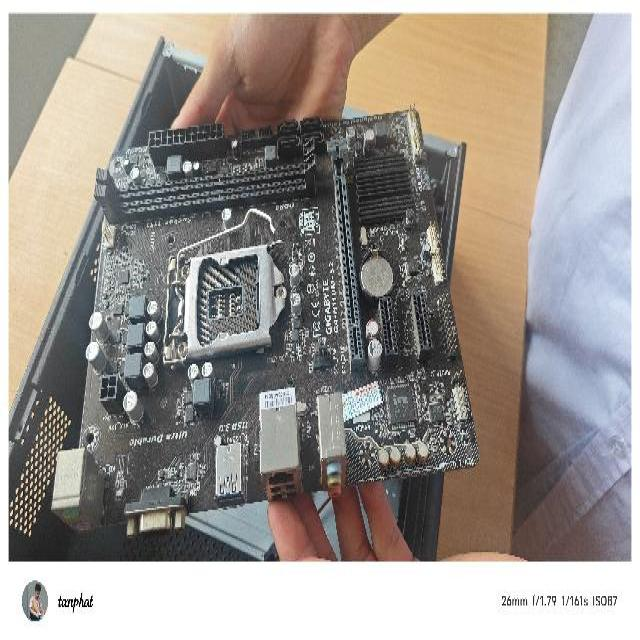Mainboard: (49, 104, 479, 547)
